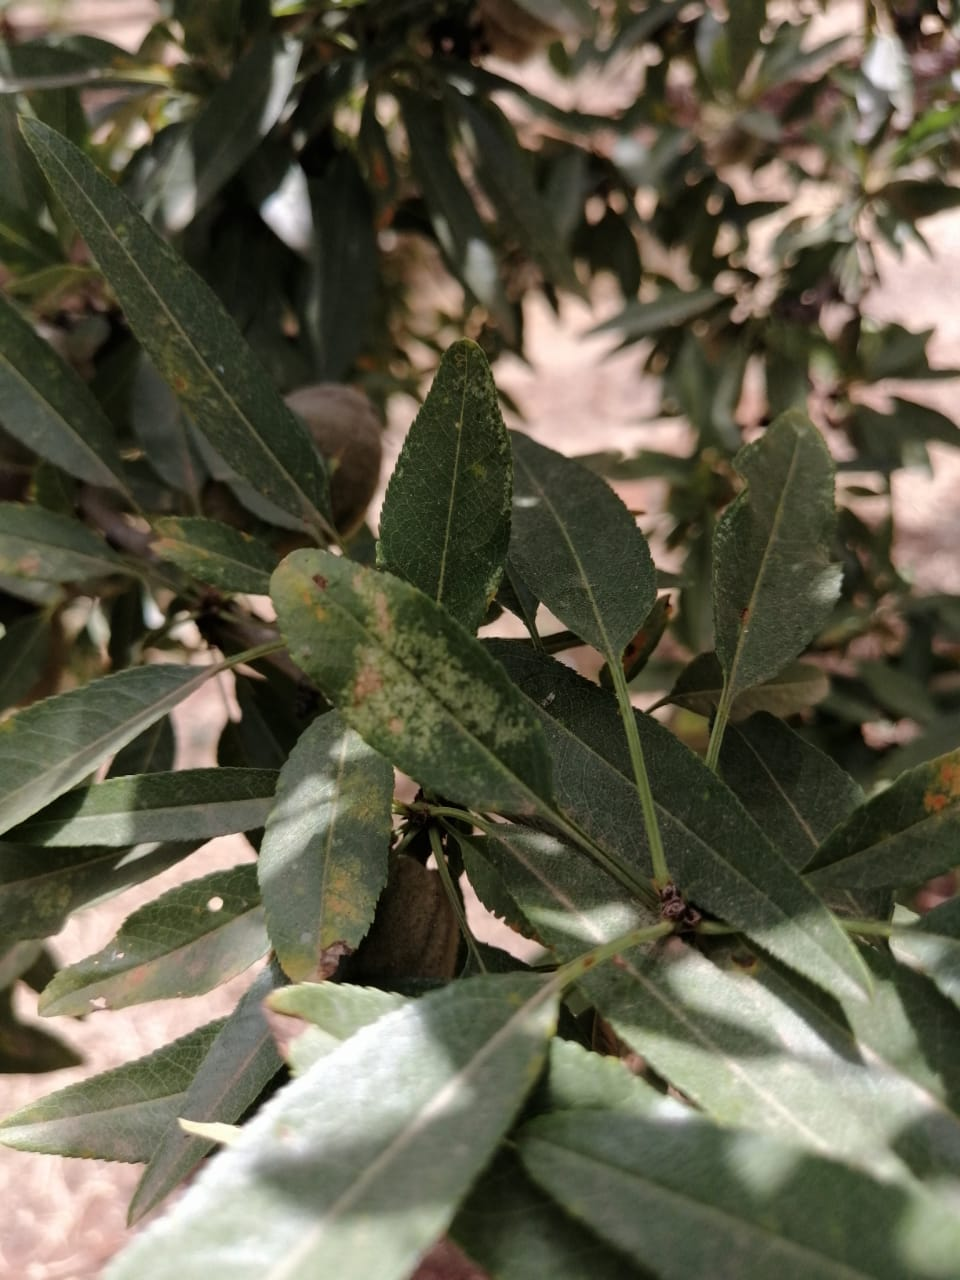faux tigre: (267, 546, 559, 822), (379, 337, 514, 631)
